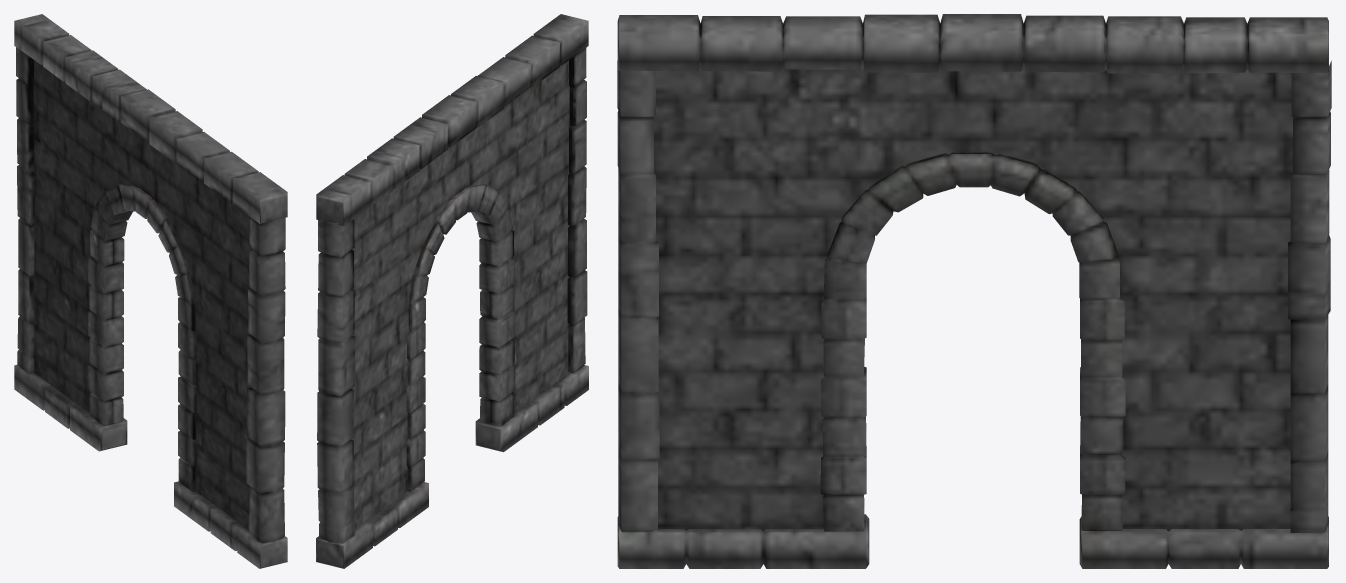
File: SM_Doorbase_Stone_c8d754.glb
3 views of the same model, side by side, from view 1: azimuth 30°, elevation 25°; view 2: azimuth 150°, elevation 25°; view 3: azimuth 270°, elevation 25° (orthographic). The views are drawn at different scales.
Bounding box in the file's own units: 0.2648 × 3.32 × 4.02.
Materials: 1 (1 with a texture image).
